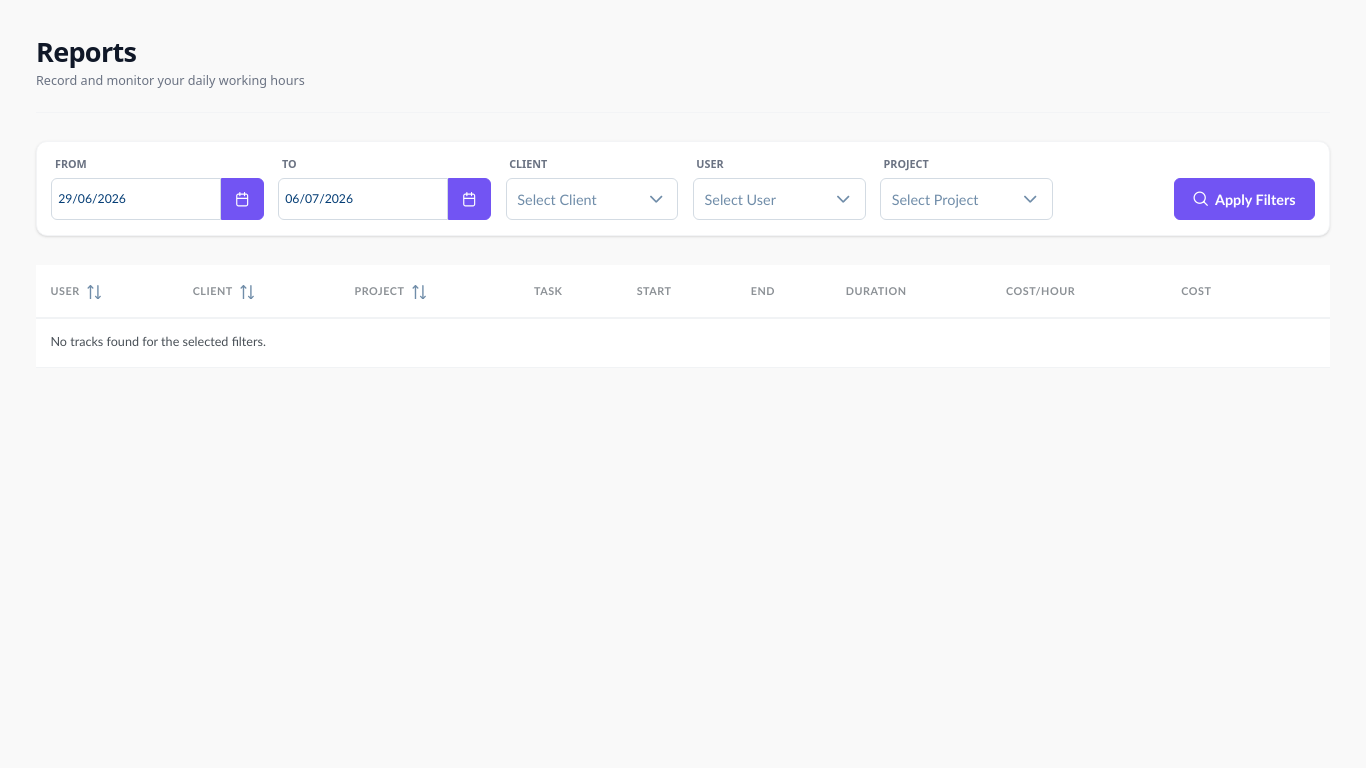
it: TracksList › shows project group and CSV/PDF buttons after applying filters
Click the button "Apply Filters" at (1244, 199), box [1174,178,1315,220]
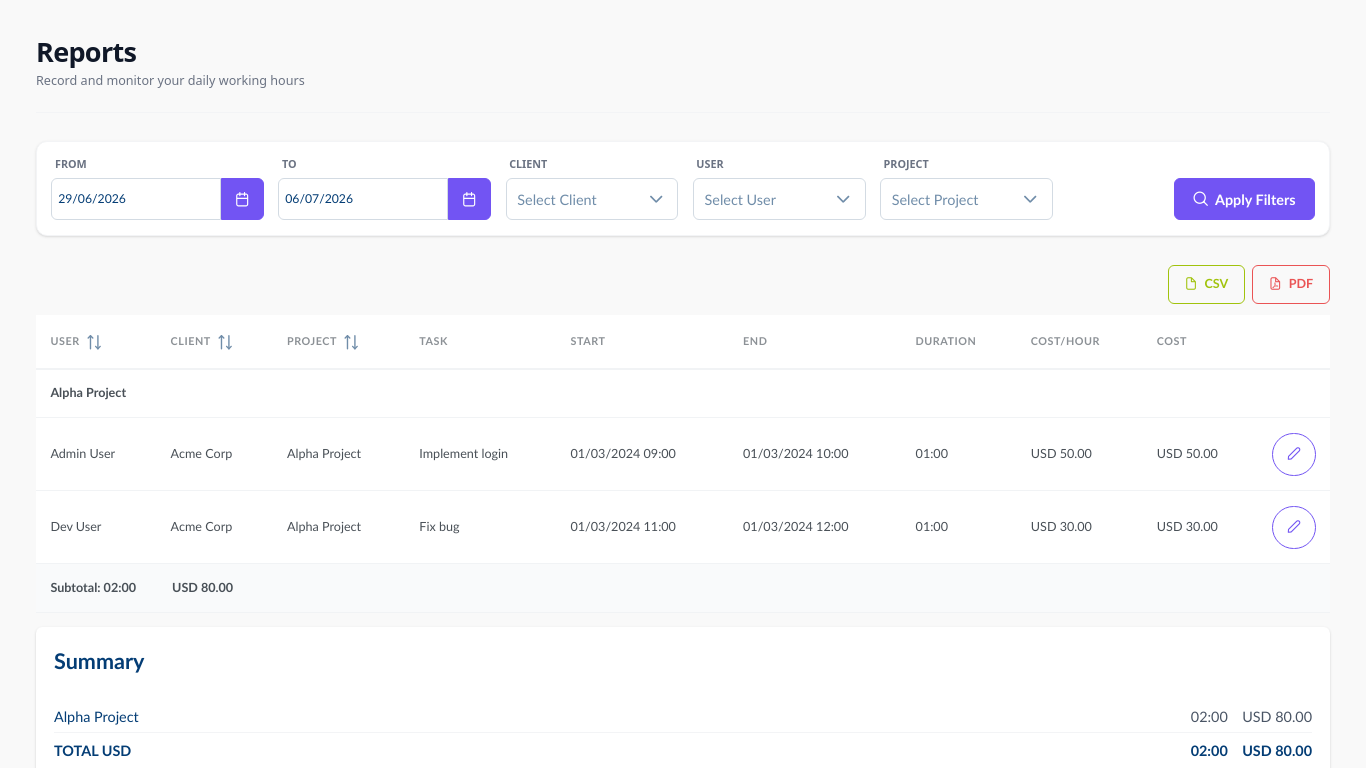
Now the 1st text "Alpha Project" is shown, box [50,385,126,400]
Now the button "CSV" is shown, box [1168,264,1245,304]
Now the button "PDF" is shown, box [1252,264,1330,304]
